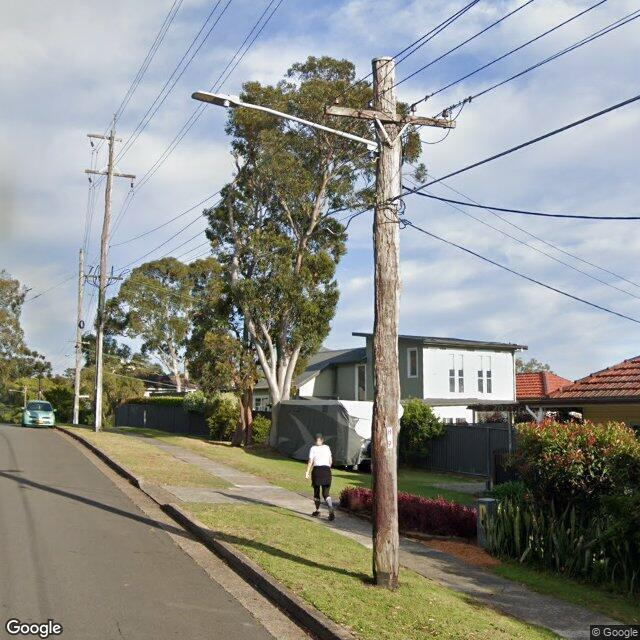HV-transmission: (85, 113, 136, 196)
crossarm: (323, 102, 456, 130), (85, 169, 136, 178), (87, 132, 123, 144), (84, 273, 124, 282)
streetlight: (192, 90, 380, 152)
timber-pole: (370, 57, 400, 589), (95, 129, 116, 431), (72, 248, 85, 424)
